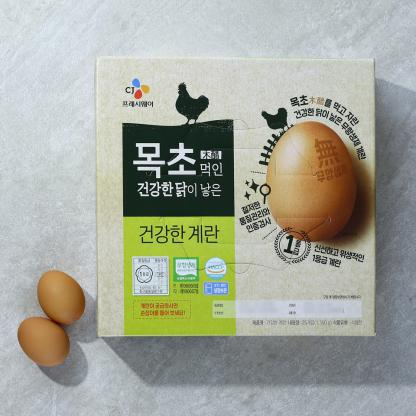egg: (256, 106, 367, 248), (12, 258, 99, 336), (7, 306, 80, 376)
